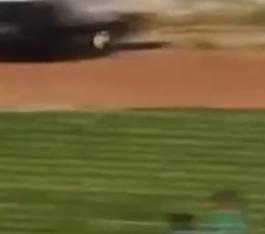ball: (89, 28, 116, 54)
